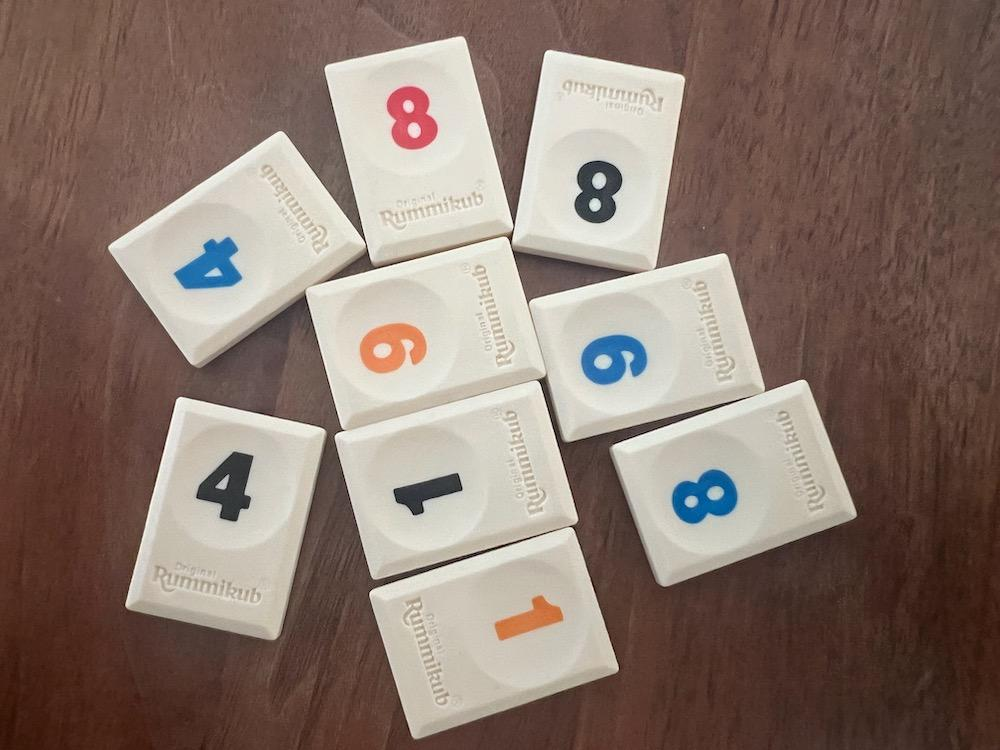black_1: (336, 383, 576, 578)
black_4: (127, 398, 326, 639)
black_8: (512, 51, 684, 271)
blue_4: (109, 131, 365, 367)
blue_8: (611, 381, 855, 586)
blue_9: (530, 254, 764, 441)
orange_1: (369, 529, 617, 738)
orange_9: (307, 238, 545, 430)
red_8: (328, 37, 512, 266)
